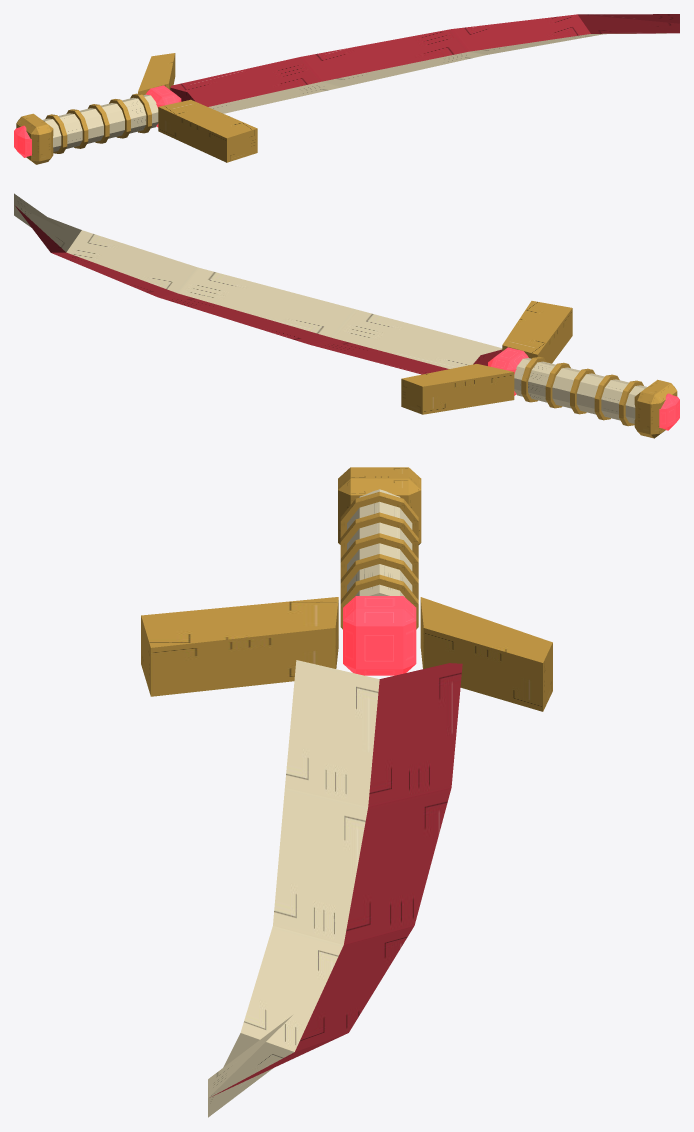
File: sickle.glb
The picture shows the model from 3 angles, top to bottom: view 1: azimuth 30°, elevation 25°; view 2: azimuth 150°, elevation 25°; view 3: azimuth 270°, elevation 25°; orthographic projection. The views are drawn at different scales.
Parts seen in each view (by area): view 1: blade, grip, guard; view 2: blade, guard, grip; view 3: blade, guard, grip.
Boxes of the visible parts, x1,y1,x2,y2 form: blade: (170,14,679,113); grip: (14,93,158,164); guard: (138,53,257,162); blade: (14,193,502,374); guard: (401,301,572,414); grip: (514,357,679,438); blade: (208,660,462,1117); guard: (141,596,552,711); grip: (338,467,421,629).
Size of the model in its own units: 0.8755 by 0.051 by 0.252.
4 materials, 4 textured.
